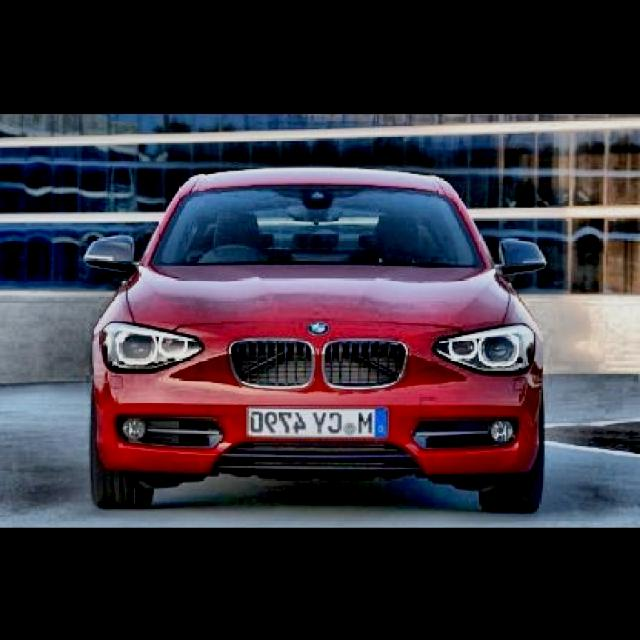red: (96, 154, 551, 490)
